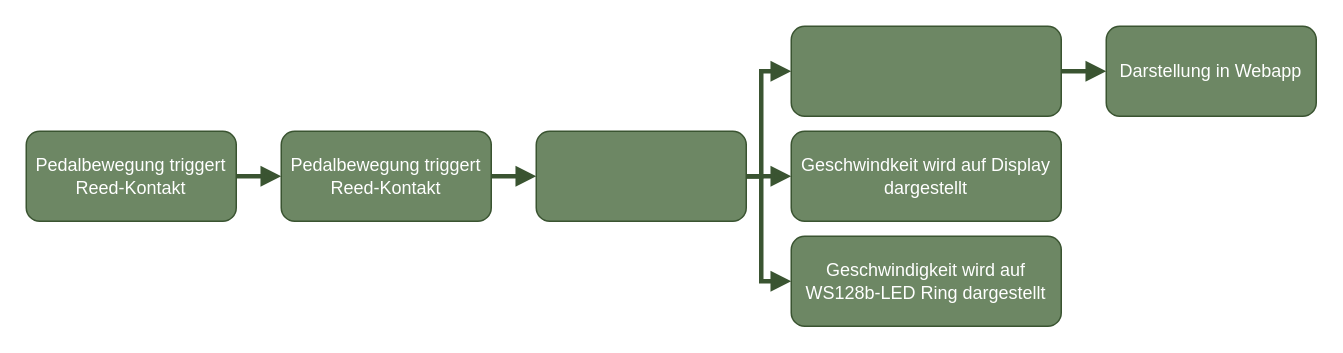
This 1343x353 diagram has some shape labels left out. Here are the shapes that lost their labels. From the top down, the centre of each, then its label:
At pixel 925 70: "Alle Sekunde wird die Geschwindigkeit per WLAN auf die Datenbank geschrieben".
At pixel 640 175: "ESP32-C6 berechnet die Geschwindigkeit".
